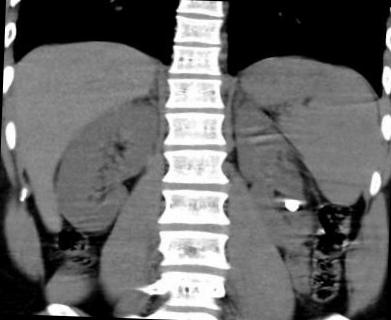Tas_Var: (282, 196, 302, 213)
